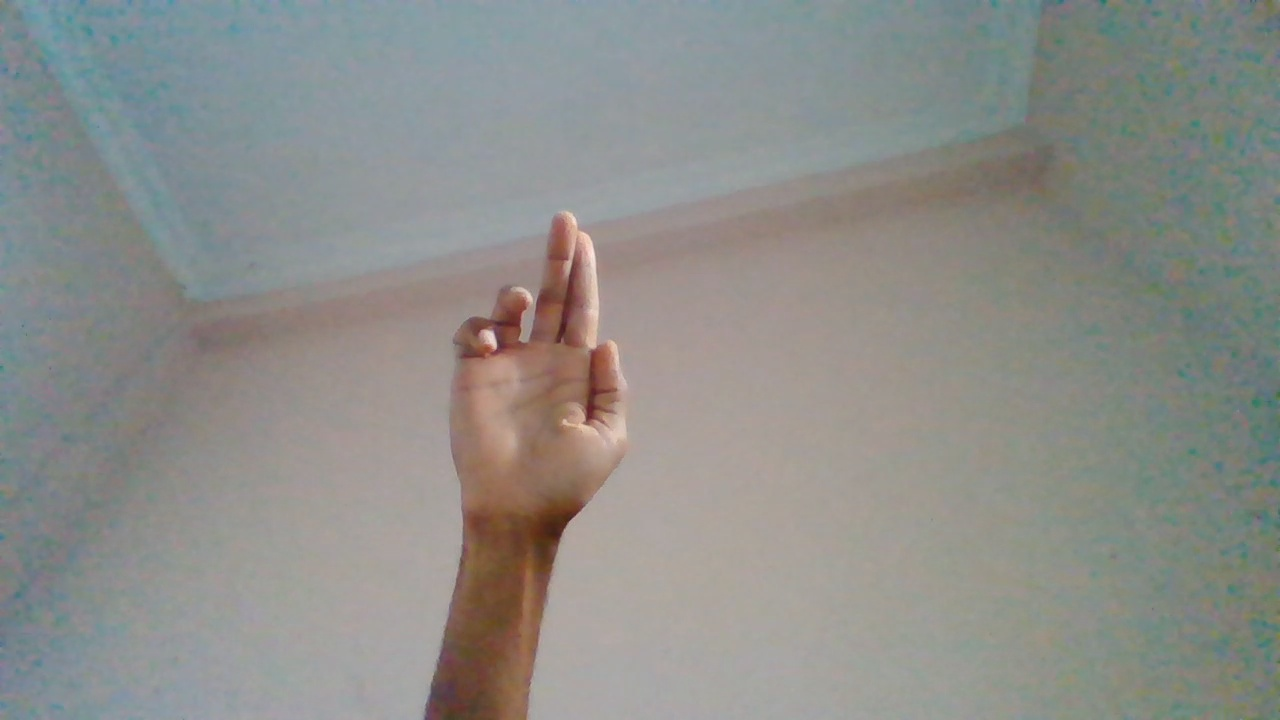gne: (447, 213, 634, 624)
